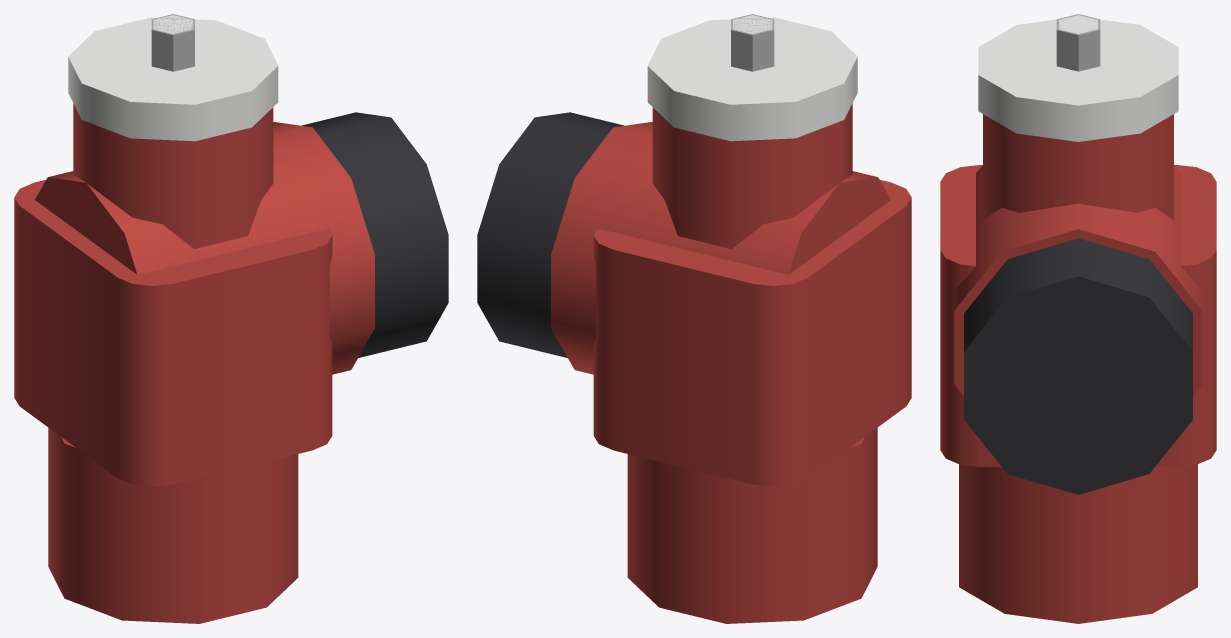
The model's file is carb_round_lod1.glb.
3 views of the same model, side by side, from view 1: azimuth 30°, elevation 25°; view 2: azimuth 150°, elevation 25°; view 3: azimuth 270°, elevation 25° (orthographic).
Parts seen in each view (by area): view 1: carb_round_lod1; view 2: carb_round_lod1; view 3: carb_round_lod1.
Part boxes in pixels (left/top/right/bottom): carb_round_lod1: left=14, top=14, right=448, bottom=623; carb_round_lod1: left=477, top=14, right=911, bottom=623; carb_round_lod1: left=940, top=14, right=1216, bottom=623.
Bounding box in the file's own units: 0.075 × 0.12 × 0.055.
